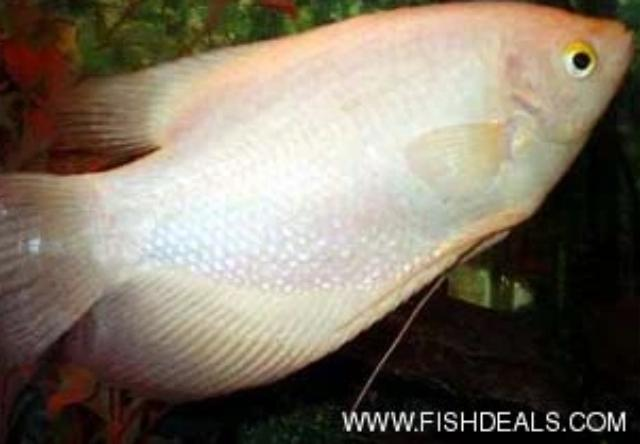Mulut: (536, 1, 640, 96)
Sirip Anal: (54, 248, 386, 416)
Sirip Dada: (380, 97, 542, 229)
Sirip Ekor: (0, 145, 138, 391)
Sirip Punggung: (19, 19, 333, 171)
